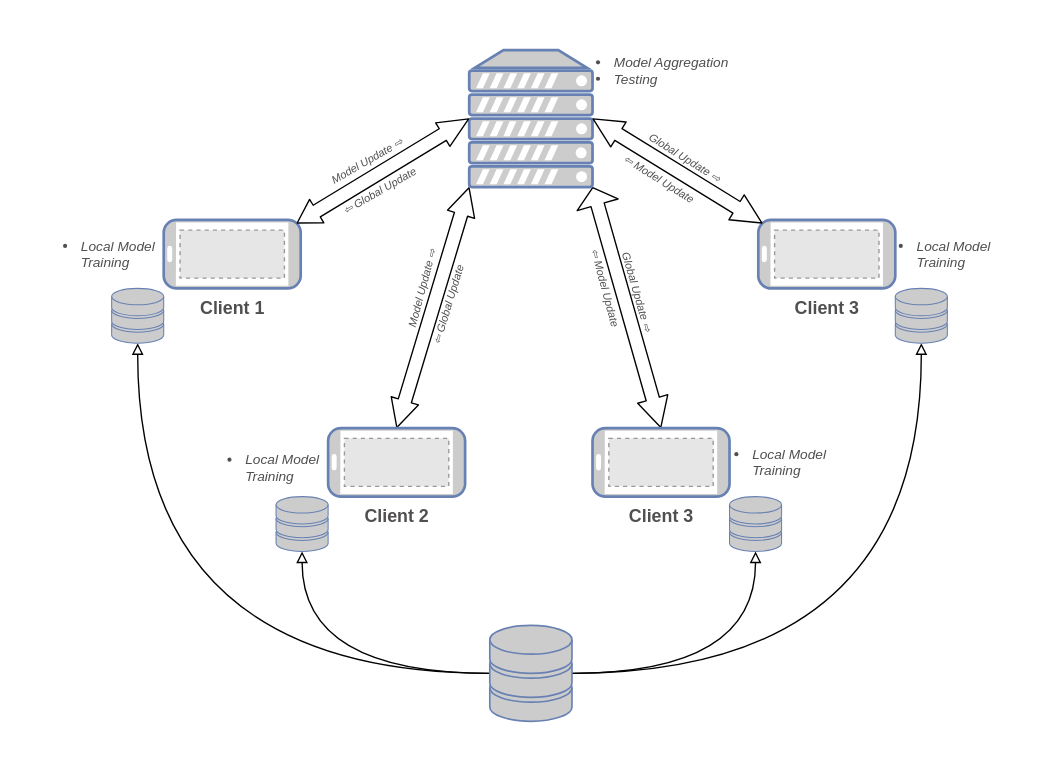
Image size: 1060x775. Some labels were removed from this diagram. Grey dashed boxes stand in for pictures. The box of each missing label's shape, as (x1, y1, x2, y2) in pixels:
Central Model: (467, 48, 593, 188)
MNIST Dataset: (488, 623, 573, 722)
